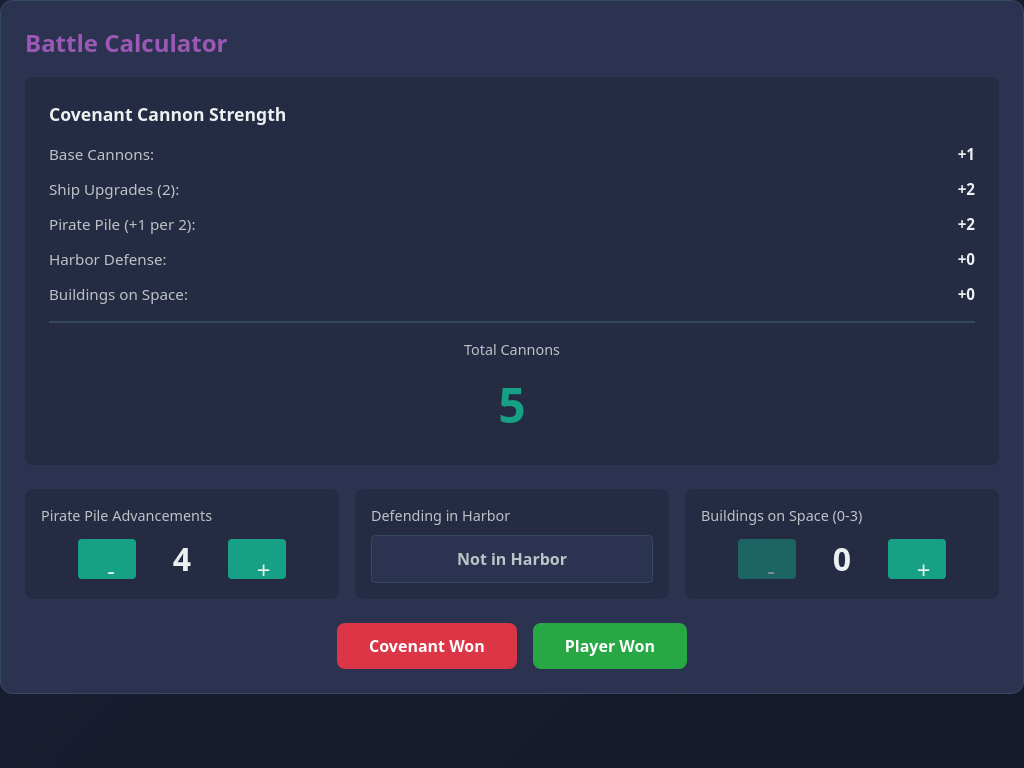
Test: BattleCalculator › Cannon Calculation › calculates complex scenario with all modifiers
The image size is (1024, 768).
Note: Enable harbor
Click the button "Not in Harbor" at x=512, y=559, box [371, 535, 653, 583]
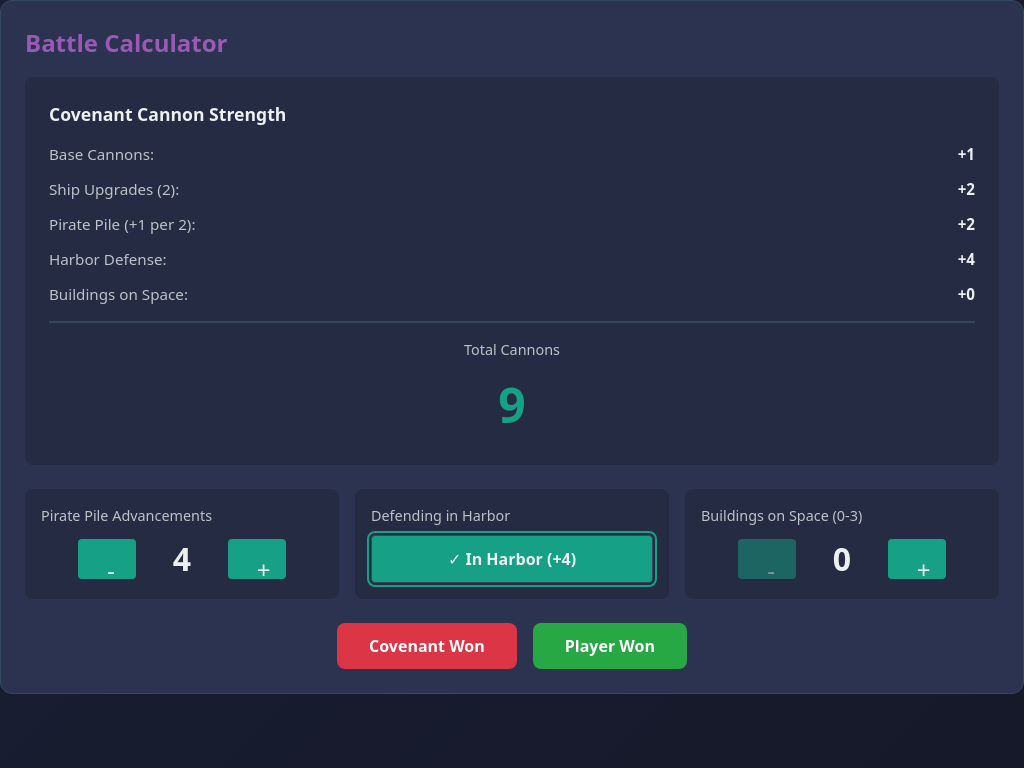
Note: Add buildings
Click the button named "Increase buildings" at x=917, y=559, box [888, 539, 946, 579]
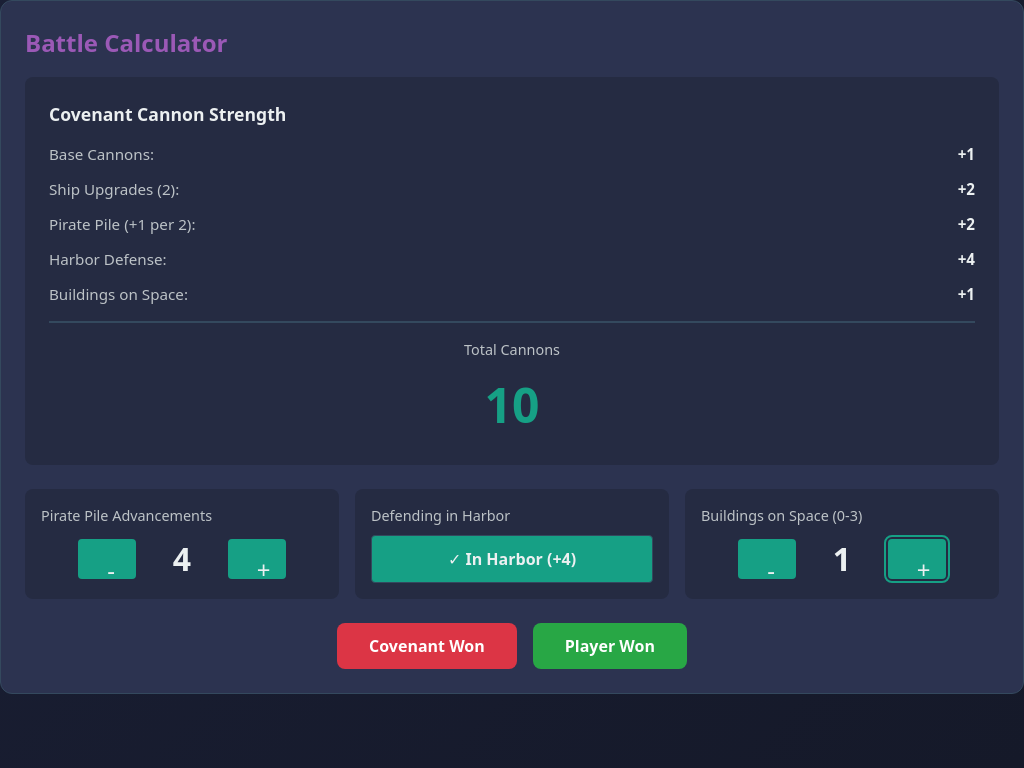
Click the button named "Increase buildings" at x=917, y=559, box [888, 539, 946, 579]
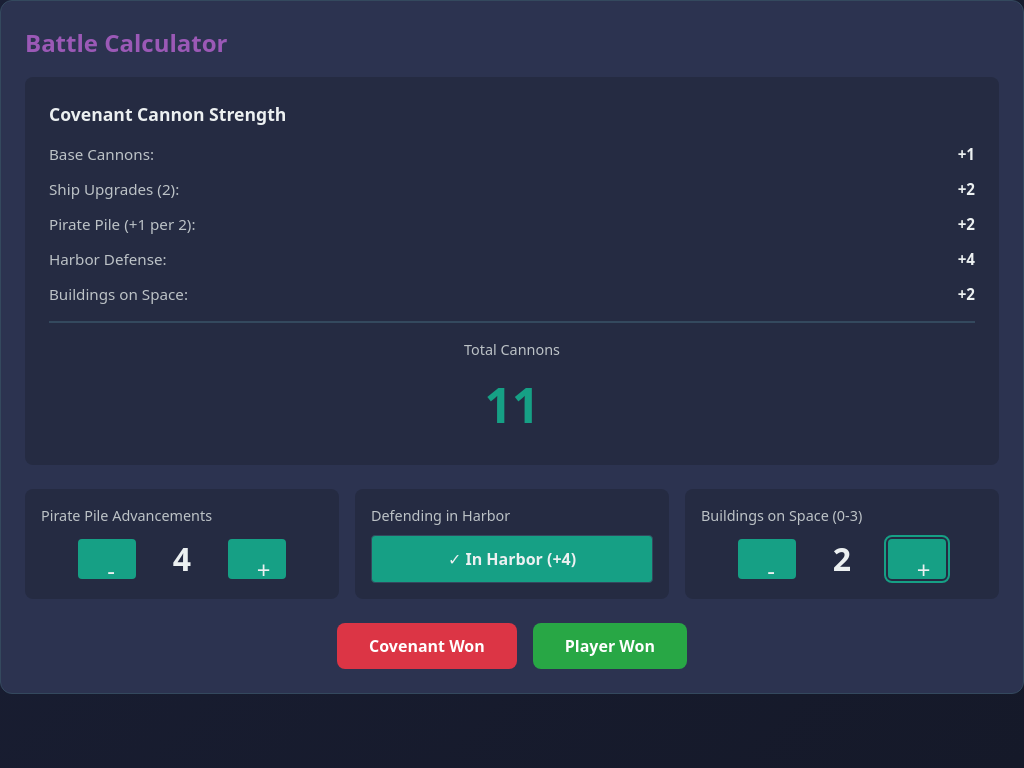
Expected: the text "Covenant Cannon Strength" shows "11", [484, 372, 539, 437]
